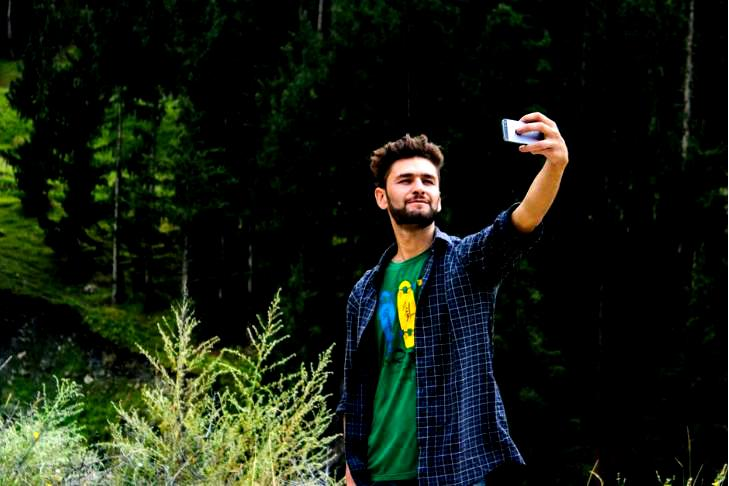face: (385, 156, 438, 221)
